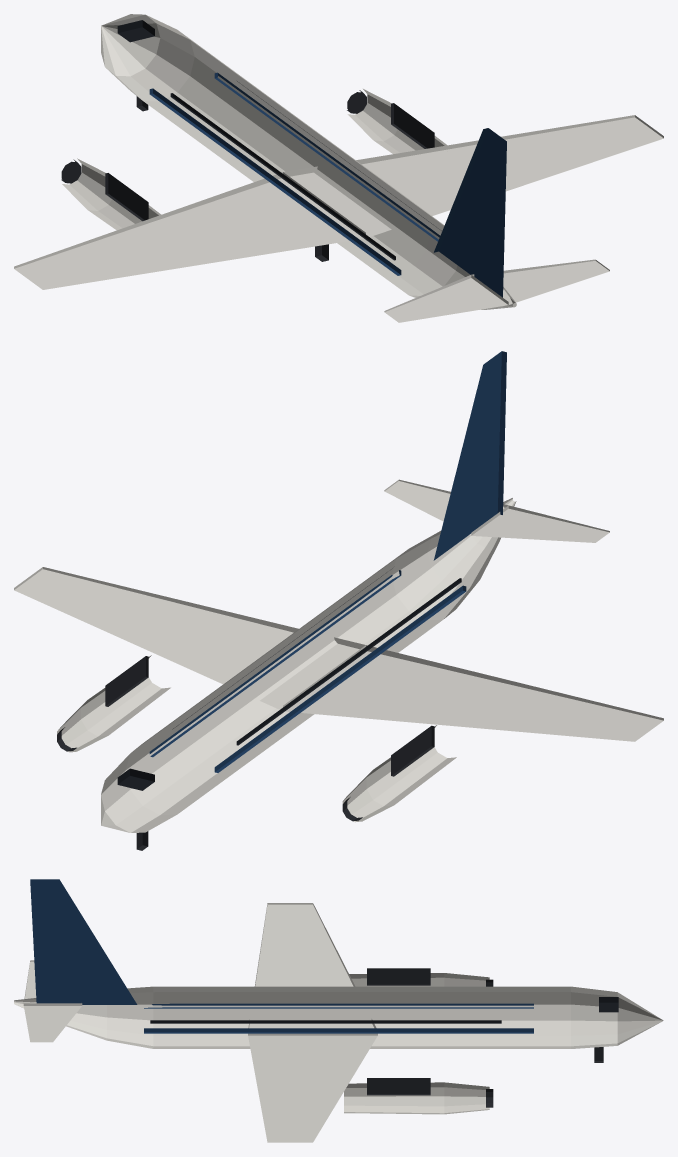
Rendered from regional.glb.
3 renders of one model, top to bottom at view 1: azimuth 30°, elevation 25°; view 2: azimuth 150°, elevation 25°; view 3: azimuth 270°, elevation 25°, orthographic. The views are drawn at different scales.
Bounding box in the file's own units: 26 × 9.26 × 30.
